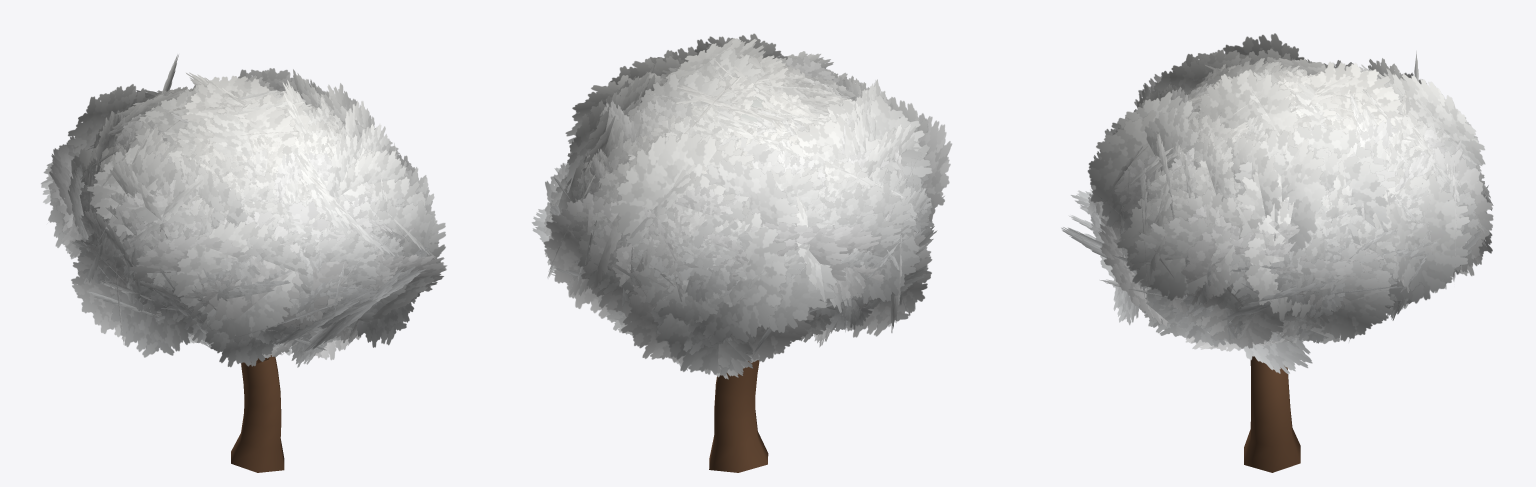
The model's file is ek-full.glb.
3 renders of one model, left to right at view 1: azimuth 30°, elevation 25°; view 2: azimuth 150°, elevation 25°; view 3: azimuth 270°, elevation 25°, orthographic. The views are drawn at different scales.
Parts seen in each view (by area): view 1: crown, trunk; view 2: crown, trunk; view 3: crown, trunk.
Part boxes in pixels (bbox=[...]): crown: bbox=[41, 54, 446, 367]; trunk: bbox=[231, 355, 284, 472]; crown: bbox=[532, 33, 951, 379]; trunk: bbox=[709, 360, 768, 472]; crown: bbox=[1061, 33, 1493, 373]; trunk: bbox=[1244, 356, 1300, 472].
Size of the model in its own units: 17.47 by 17.04 by 19.09.
2 materials, 1 textured.
